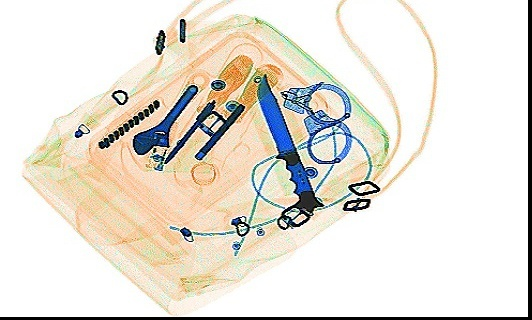handcuffs: (279, 81, 353, 164)
knife: (254, 72, 324, 216)
lighter: (142, 114, 179, 170)
